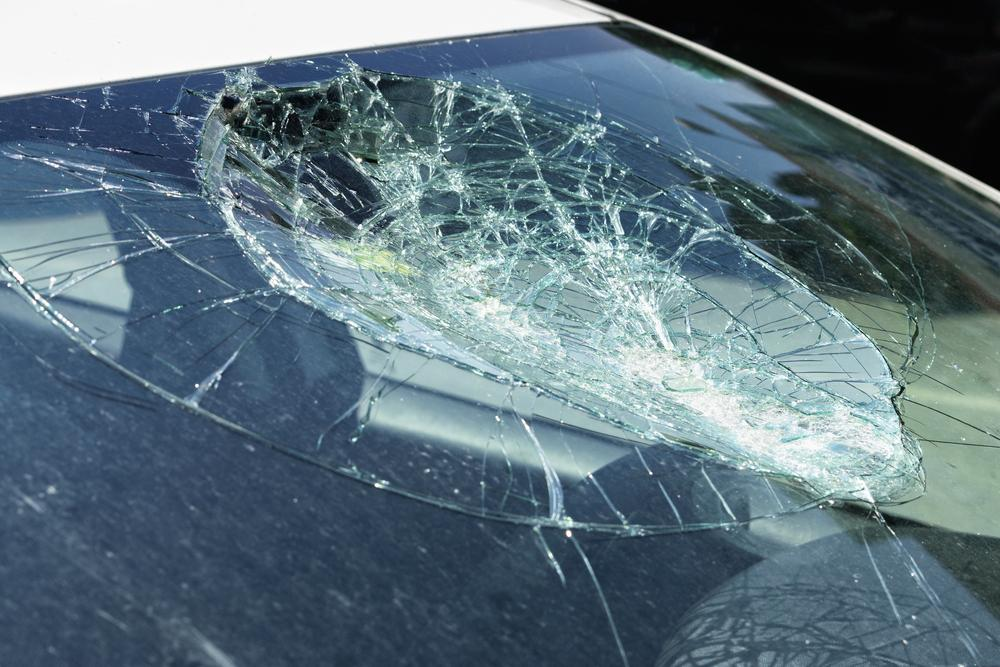glass shatter: (0, 21, 1000, 667)
